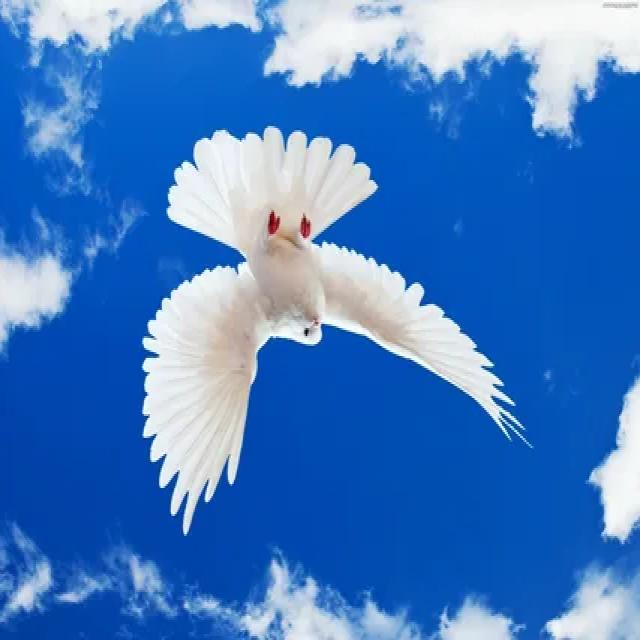pigeon: (117, 125, 527, 553)
